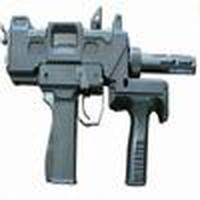gun: (2, 13, 198, 199)
